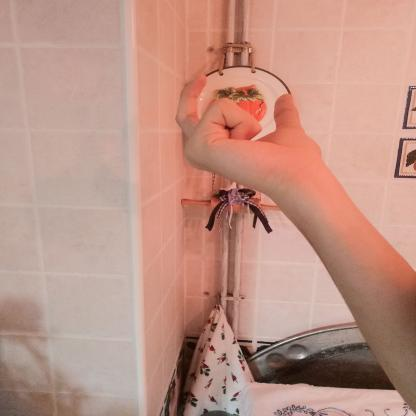NOON: (158, 62, 336, 202)
